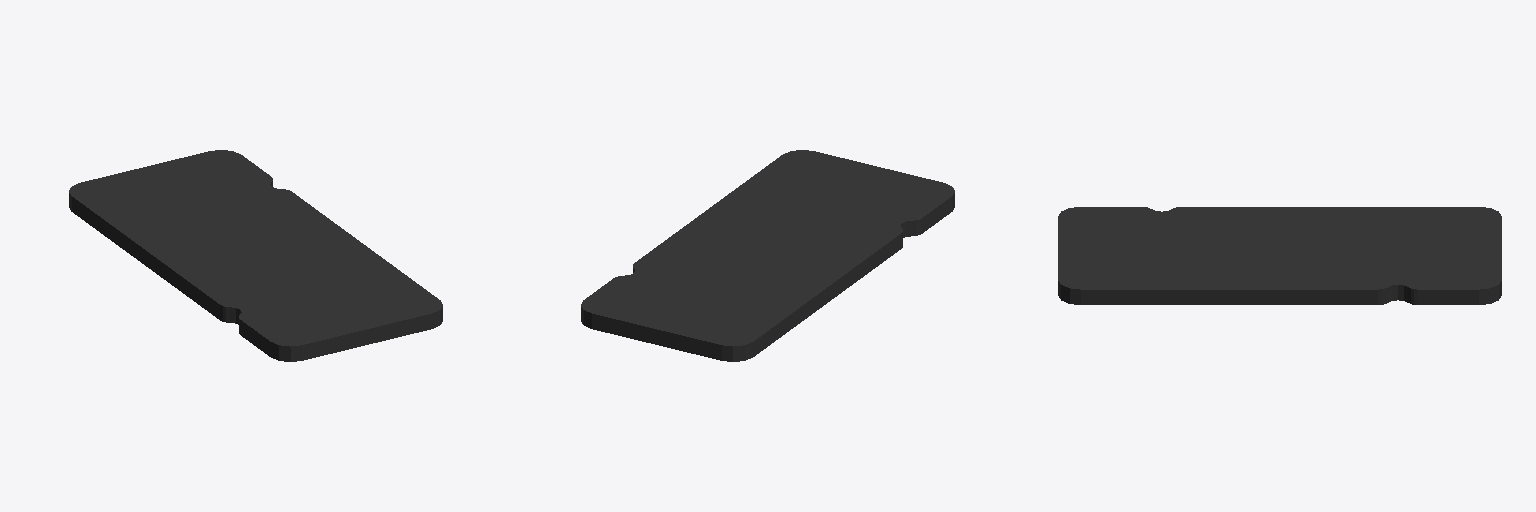
File: roki2_simlify_Dual_Servo_Al_022Copyv1__1__1_mesh_1.obj
The picture shows the model from 3 angles: view 1: azimuth 30°, elevation 25°; view 2: azimuth 150°, elevation 25°; view 3: azimuth 270°, elevation 25°; orthographic projection.
Bounding box in the file's own units: 0.034 × 0.003 × 0.077.